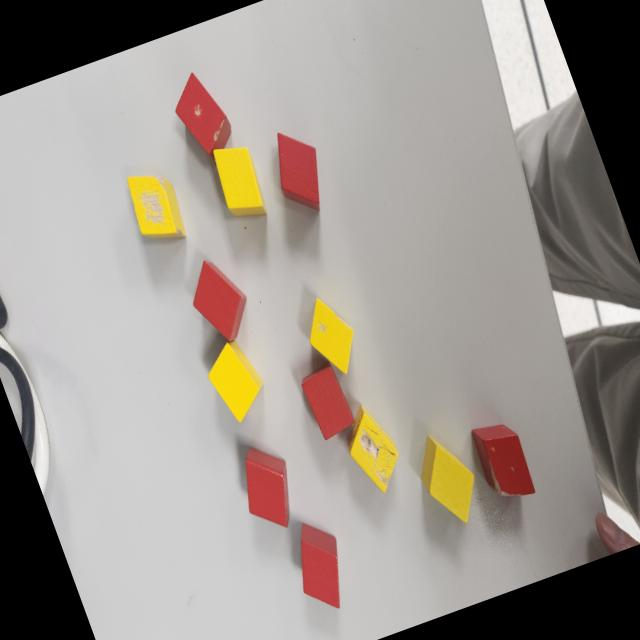broken: (334, 396, 412, 501), (163, 64, 240, 165), (295, 290, 366, 383), (121, 161, 192, 252), (468, 414, 538, 506)
red: (178, 249, 260, 352), (228, 438, 308, 539), (282, 514, 359, 618), (261, 121, 337, 222), (296, 359, 358, 443)
yellow: (406, 426, 490, 534), (200, 335, 274, 428), (208, 137, 272, 225)
